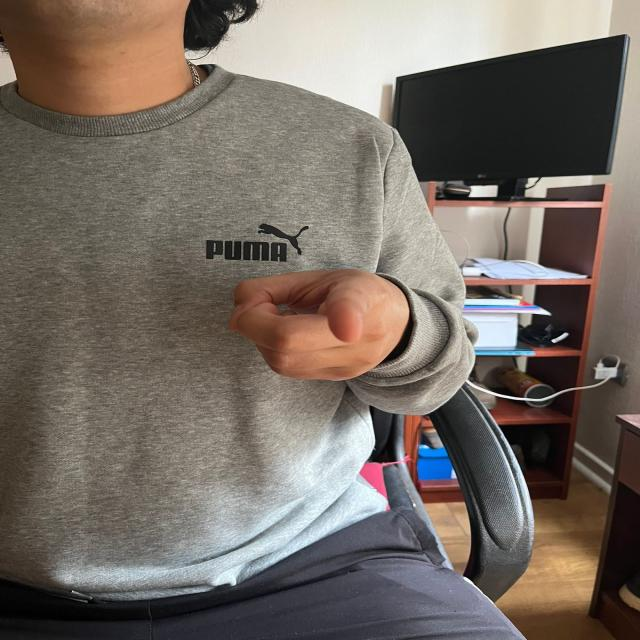X: (225, 256, 416, 390)
